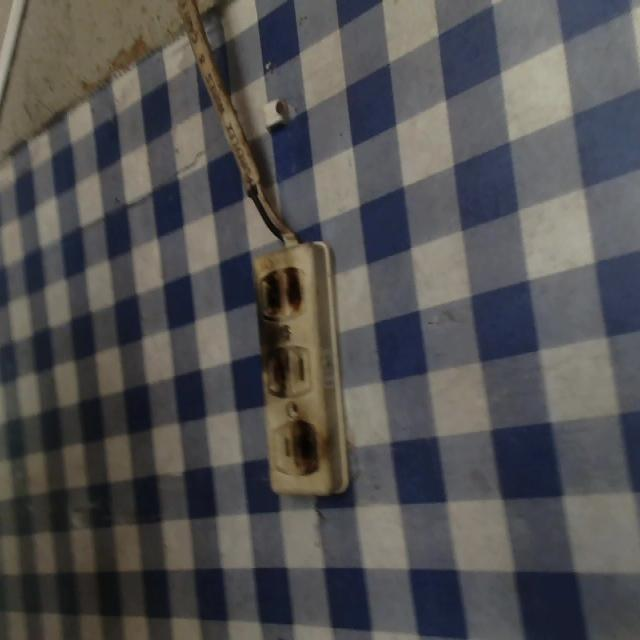-: (254, 261, 307, 320), (261, 339, 295, 404), (290, 421, 322, 475)
